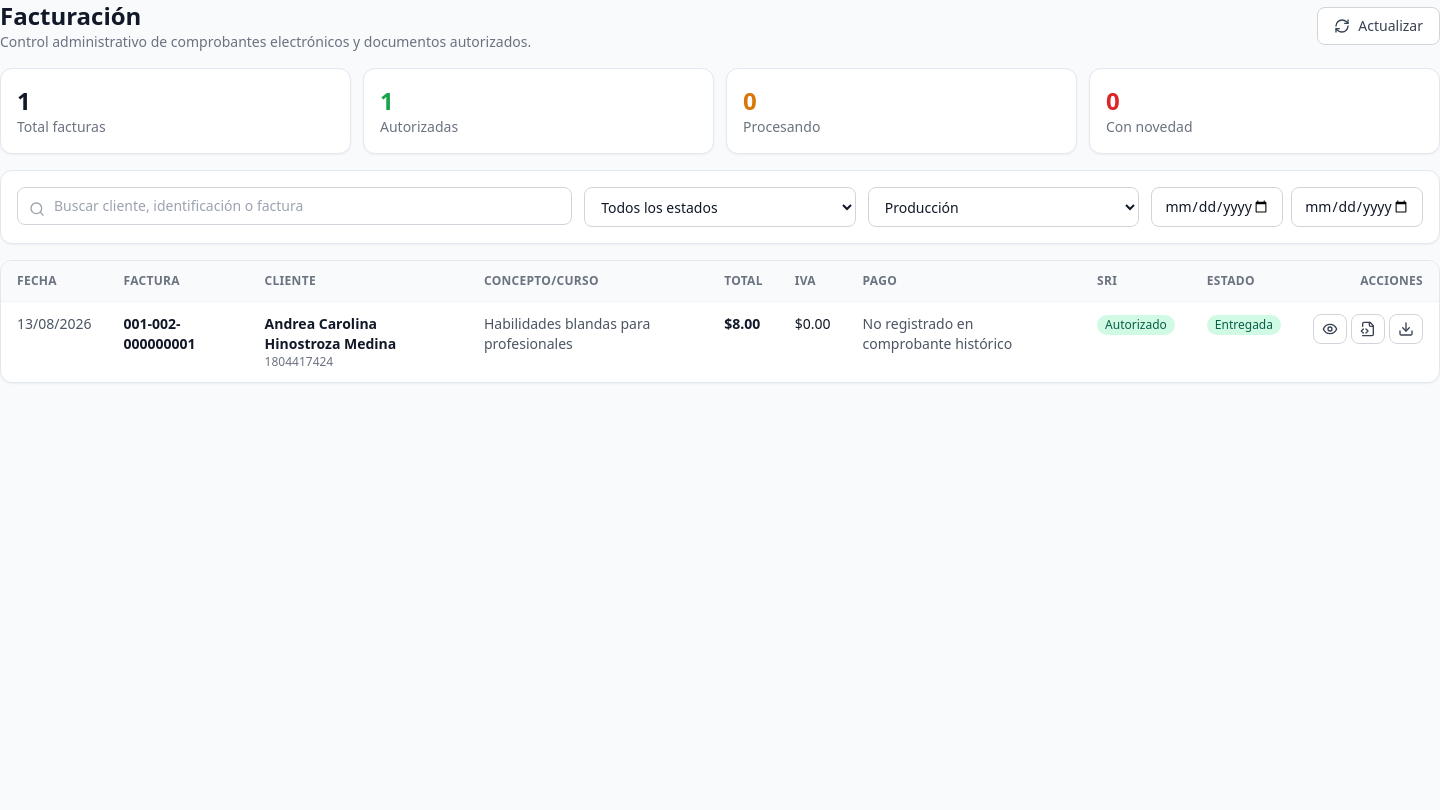
FacturacionView › envía por email solo desde el detalle con XML/RIDE disponibles
Expected: the text "001-002-000000001" is shown, [108,302,249,382]
Click the button titled "Ver detalle": click(1330, 329) [1313,314,1347,344]
(page scrolled)
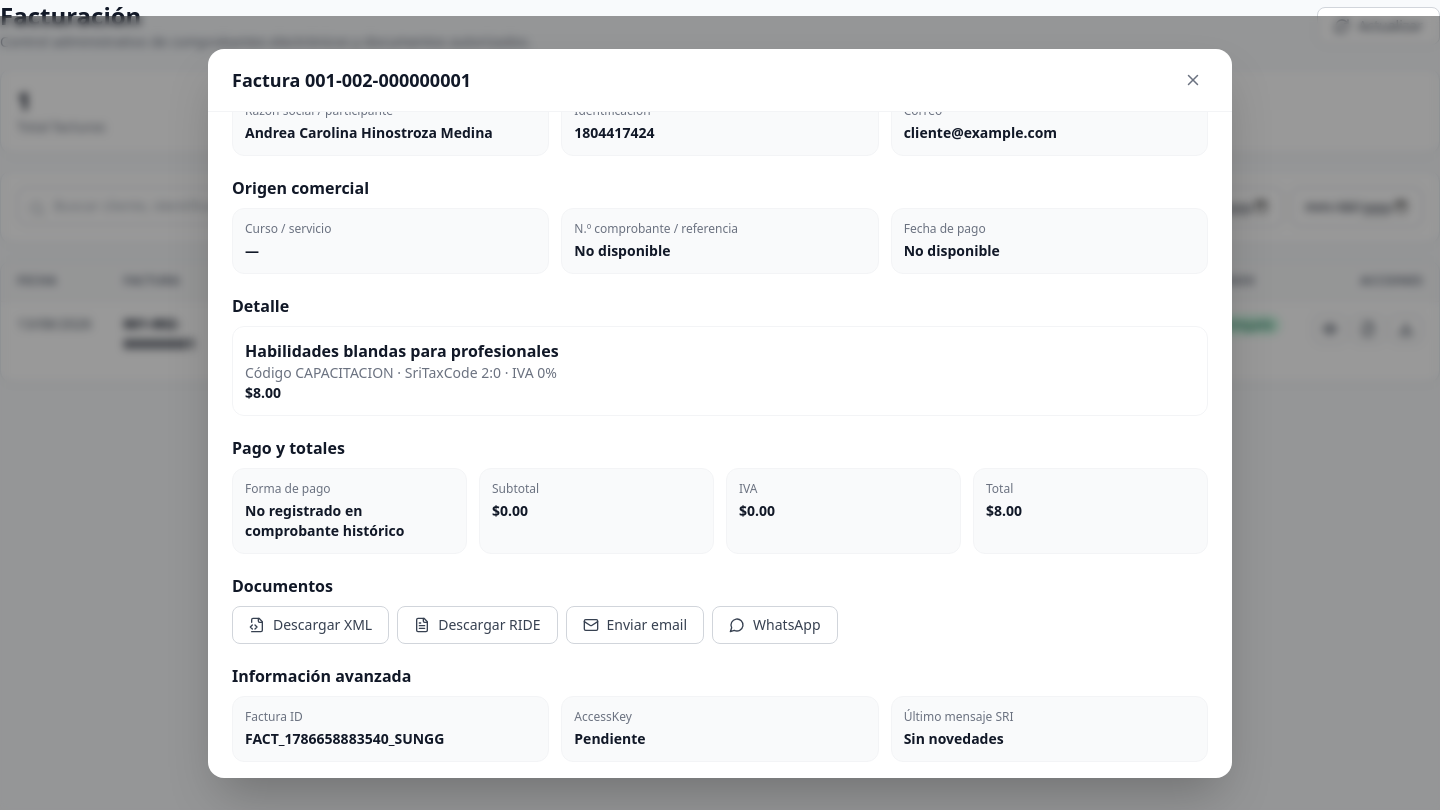
Click the button "Enviar email": click(635, 624) [566,606,704,644]
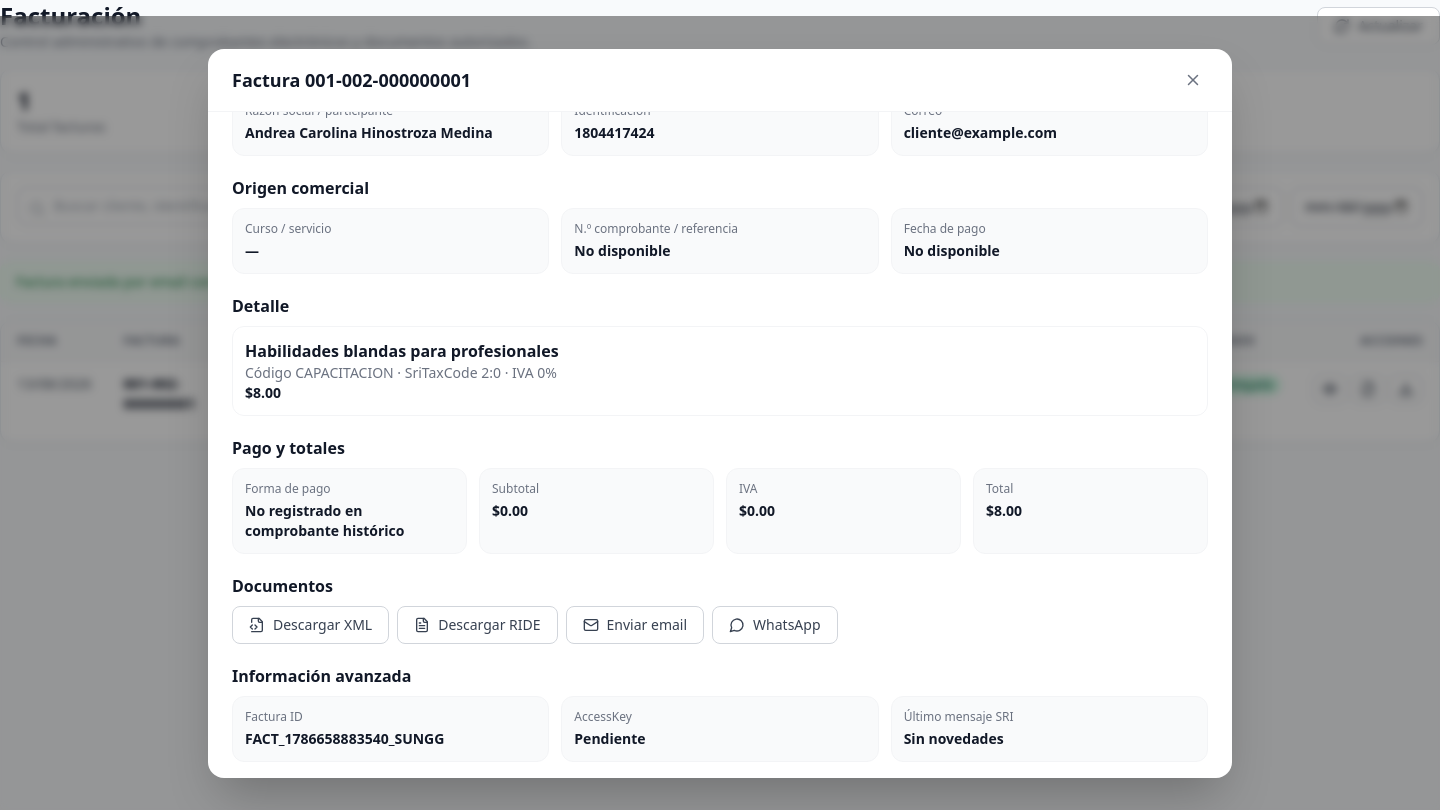
Result: the text "Factura enviada por email con XML y RIDE adjuntos." is shown at [0,260,1439,304]
